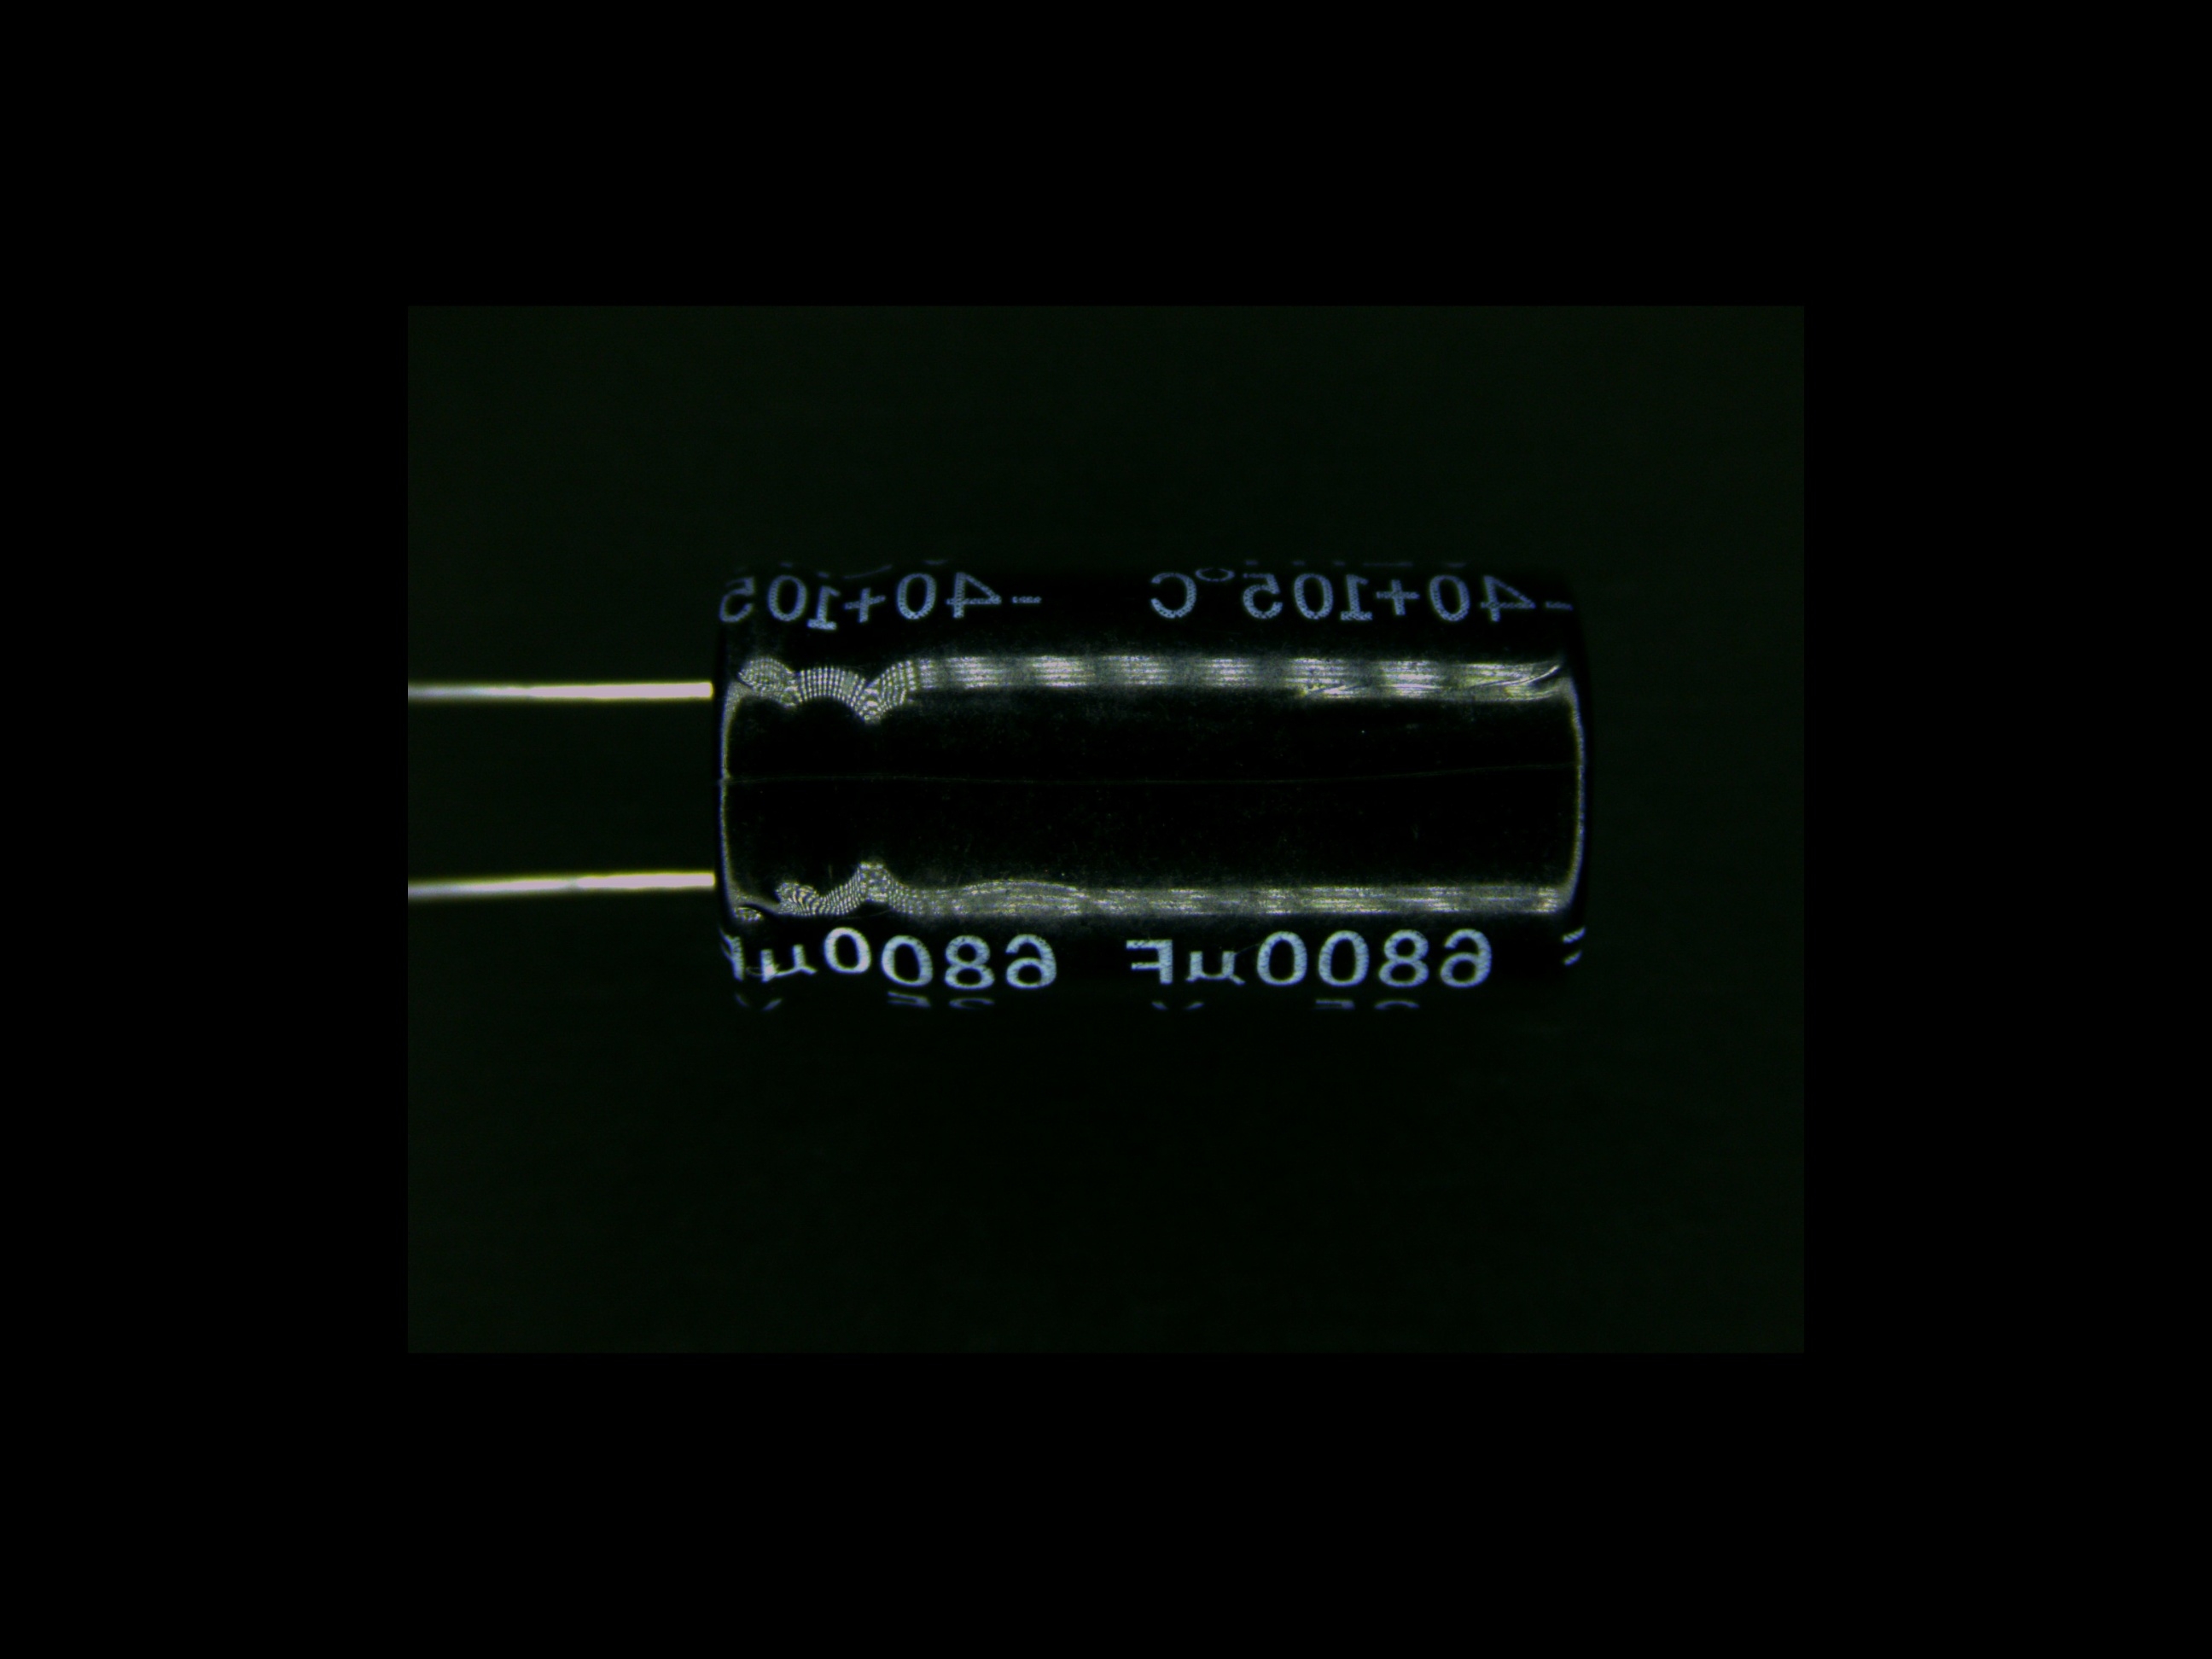c3: (514, 558, 1602, 1019)
